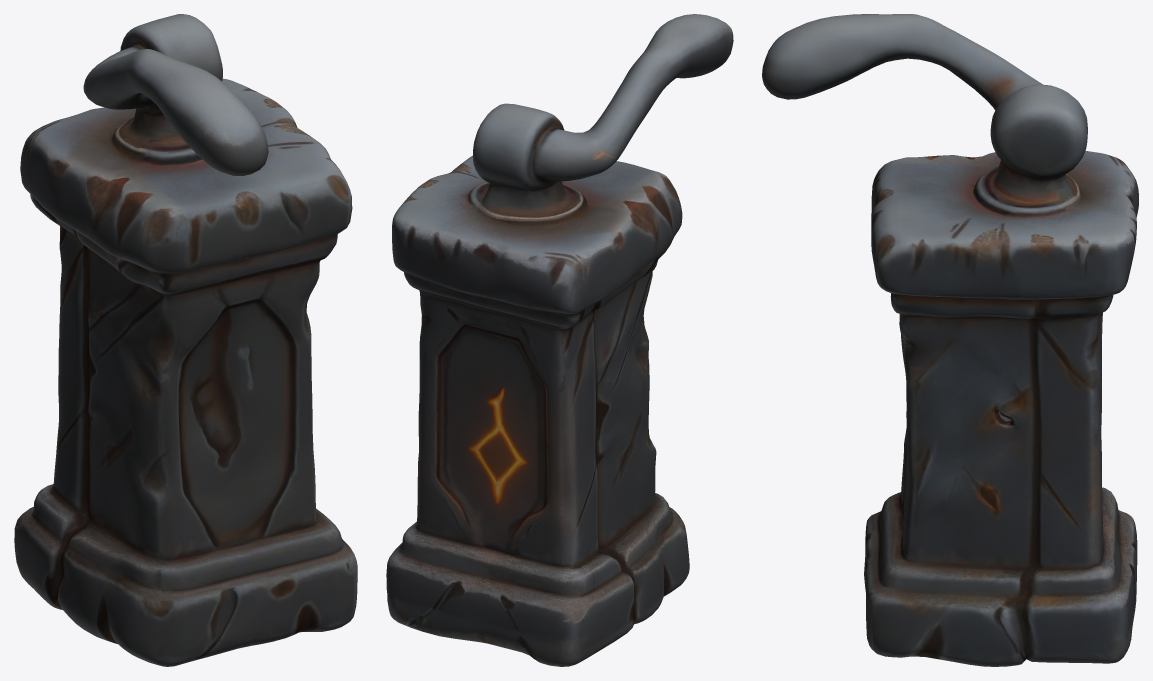
Rendered from lever_pillar.glb.
3 renders of one model, left to right at view 1: azimuth 30°, elevation 25°; view 2: azimuth 150°, elevation 25°; view 3: azimuth 270°, elevation 25°, orthographic. The views are drawn at different scales.
Bounding box in the file's own units: 0.841 × 2 × 1.21.
Materials: 1 (1 with a texture image).
